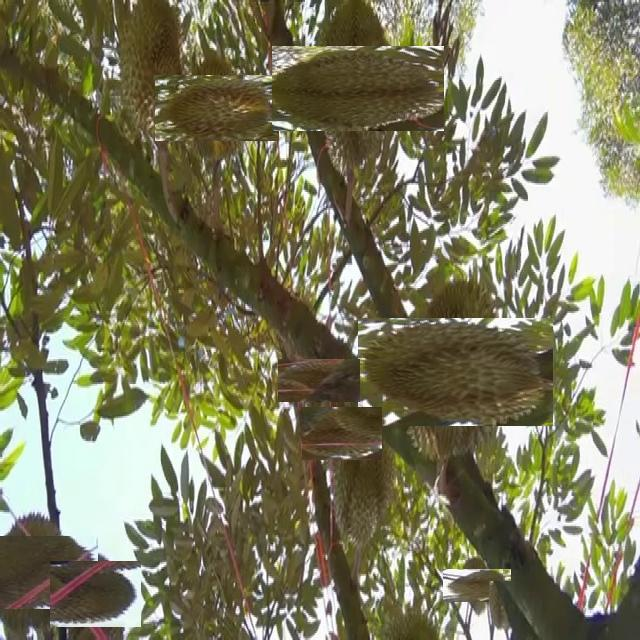durian: (379, 296, 531, 448), (293, 24, 422, 153), (117, 2, 186, 144), (328, 430, 402, 554), (169, 60, 265, 155), (0, 524, 86, 622), (56, 555, 135, 634), (308, 400, 375, 467), (288, 350, 351, 412), (452, 561, 503, 611), (489, 581, 517, 633)
